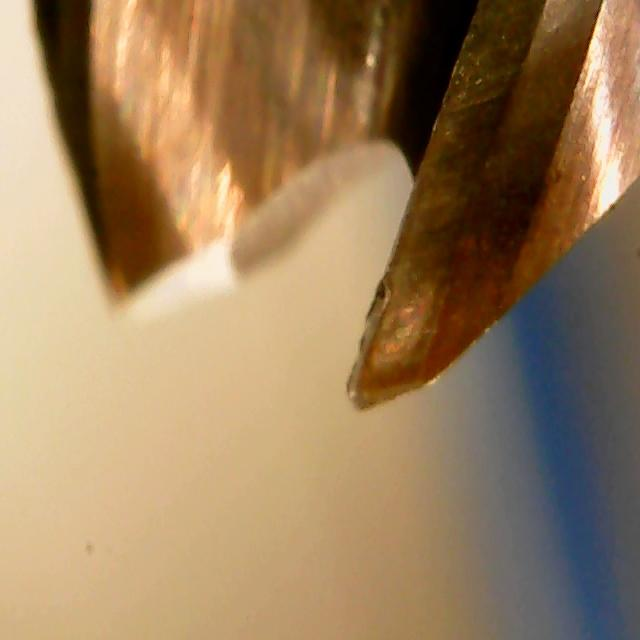Tool-wear-class-1: (315, 175, 499, 420)
